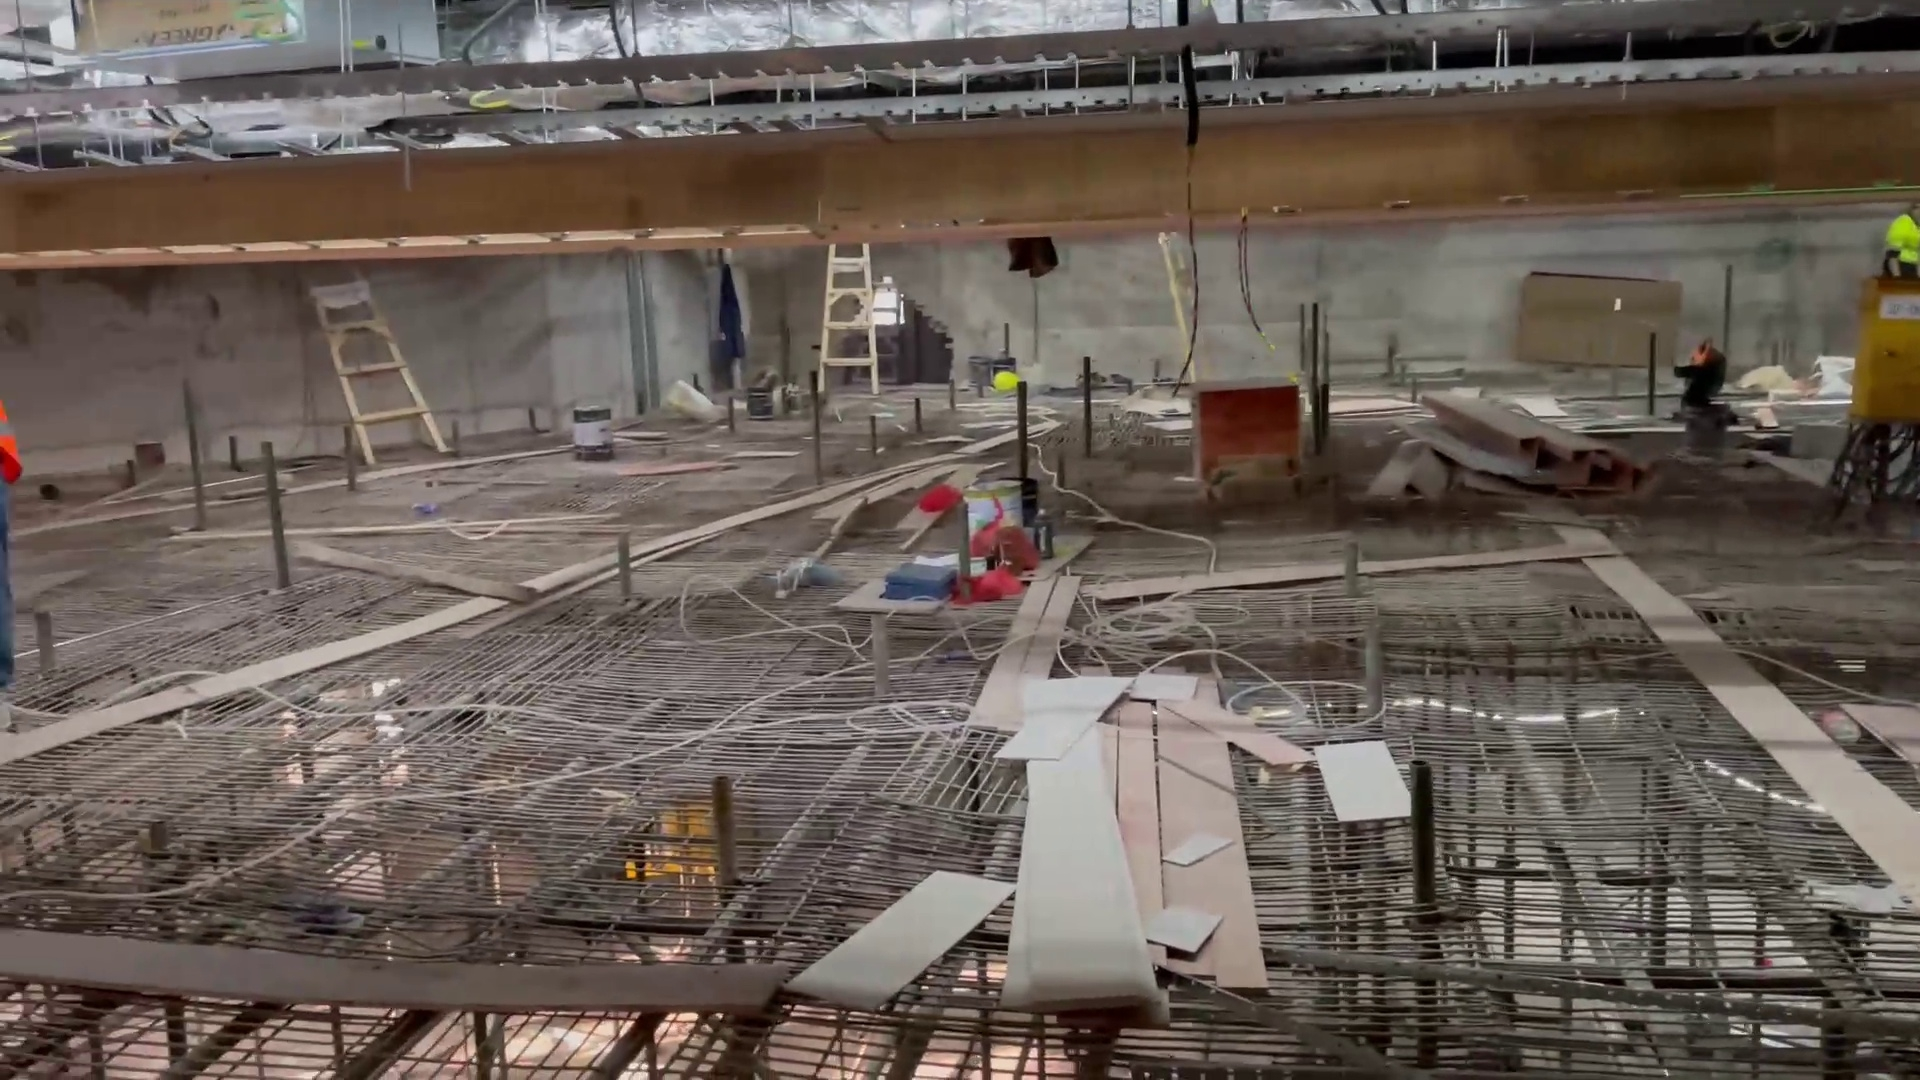helmet: (987, 368, 1023, 388)
person: (1870, 200, 1920, 285)
vest: (1889, 214, 1920, 267), (1, 413, 22, 490)
